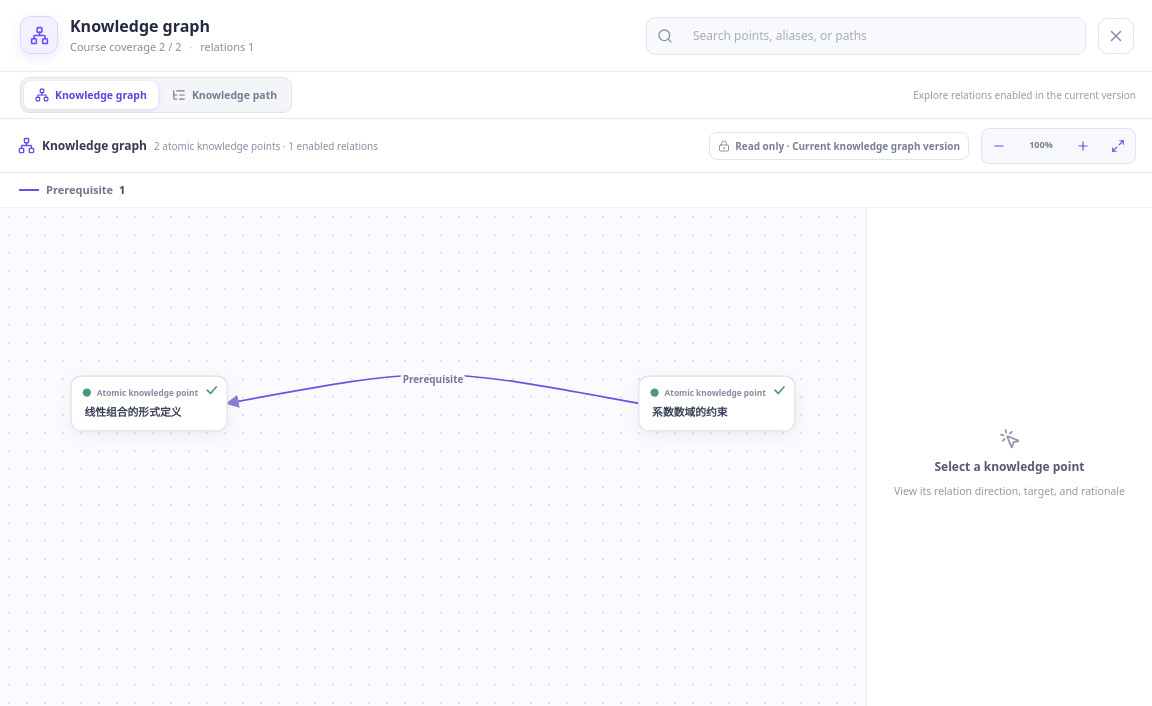
Course knowledge library › 英文模式呈现课程知识结构且不泄露翻译键
The width and height of the screenshot is (1152, 706).
Click the tab "Knowledge path": (224, 95) x1=161 y1=81 x2=288 y2=109
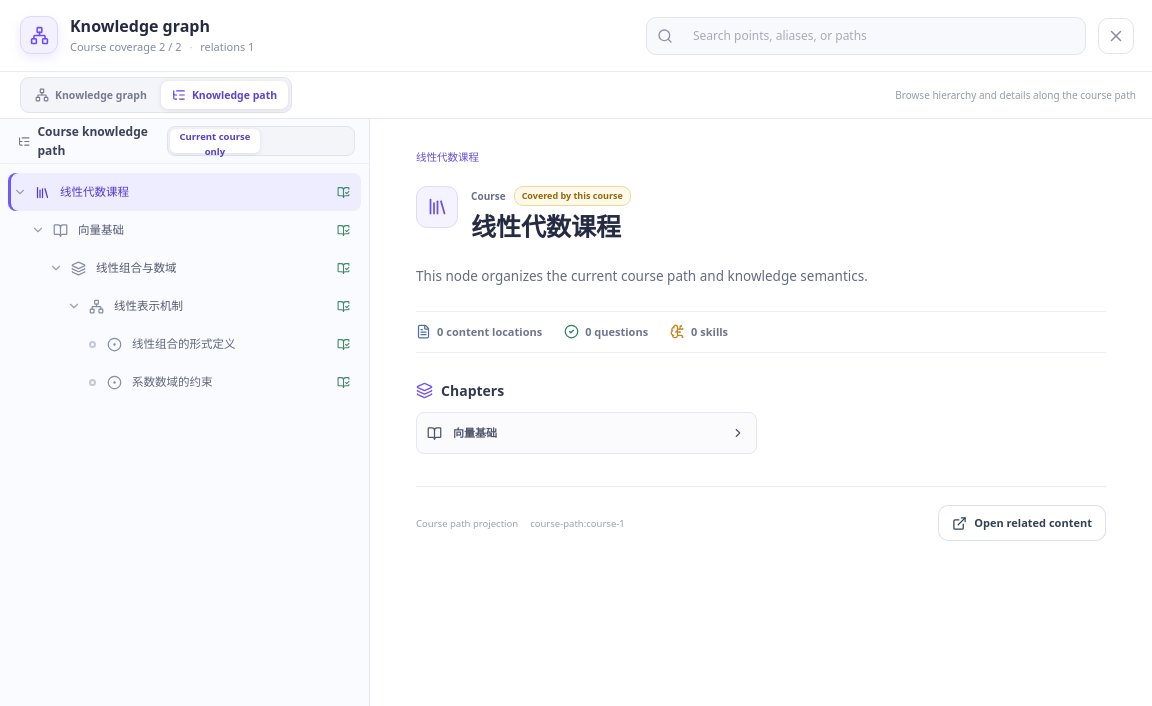
Click the button with class "knowledge-tree-node" showing "线性组合的形式定义": (232, 344) x1=104 y1=327 x2=361 y2=361
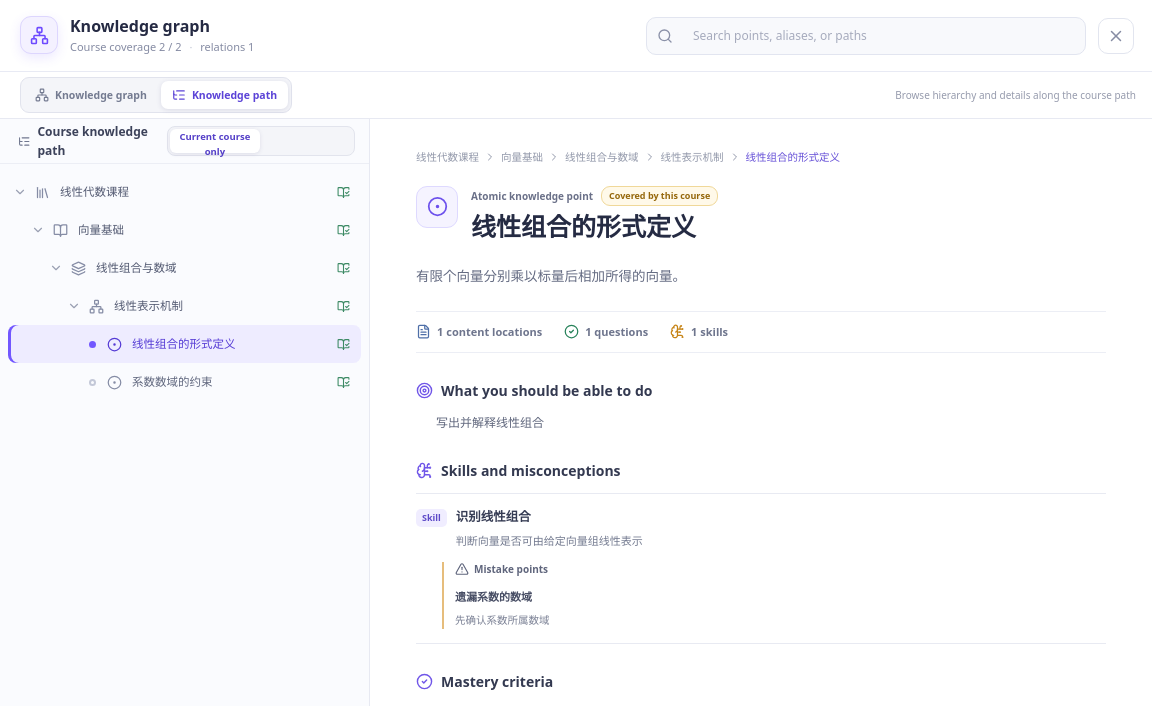
Now the text "Skills and misconceptions" is shown, box x1=416 y1=461 x2=621 y2=480
Now the text "Mistake points" is shown, box x1=455 y1=562 x2=548 y2=576
Now the text "Mastery criteria" is shown, box x1=416 y1=672 x2=553 y2=691
